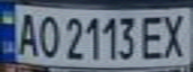1: (81, 14, 103, 61), (100, 14, 121, 61)
2: (60, 14, 84, 61)
3: (115, 12, 139, 61)
A: (12, 9, 42, 57)
E: (139, 11, 169, 61)
O: (33, 11, 60, 60)
X: (157, 11, 193, 60)
